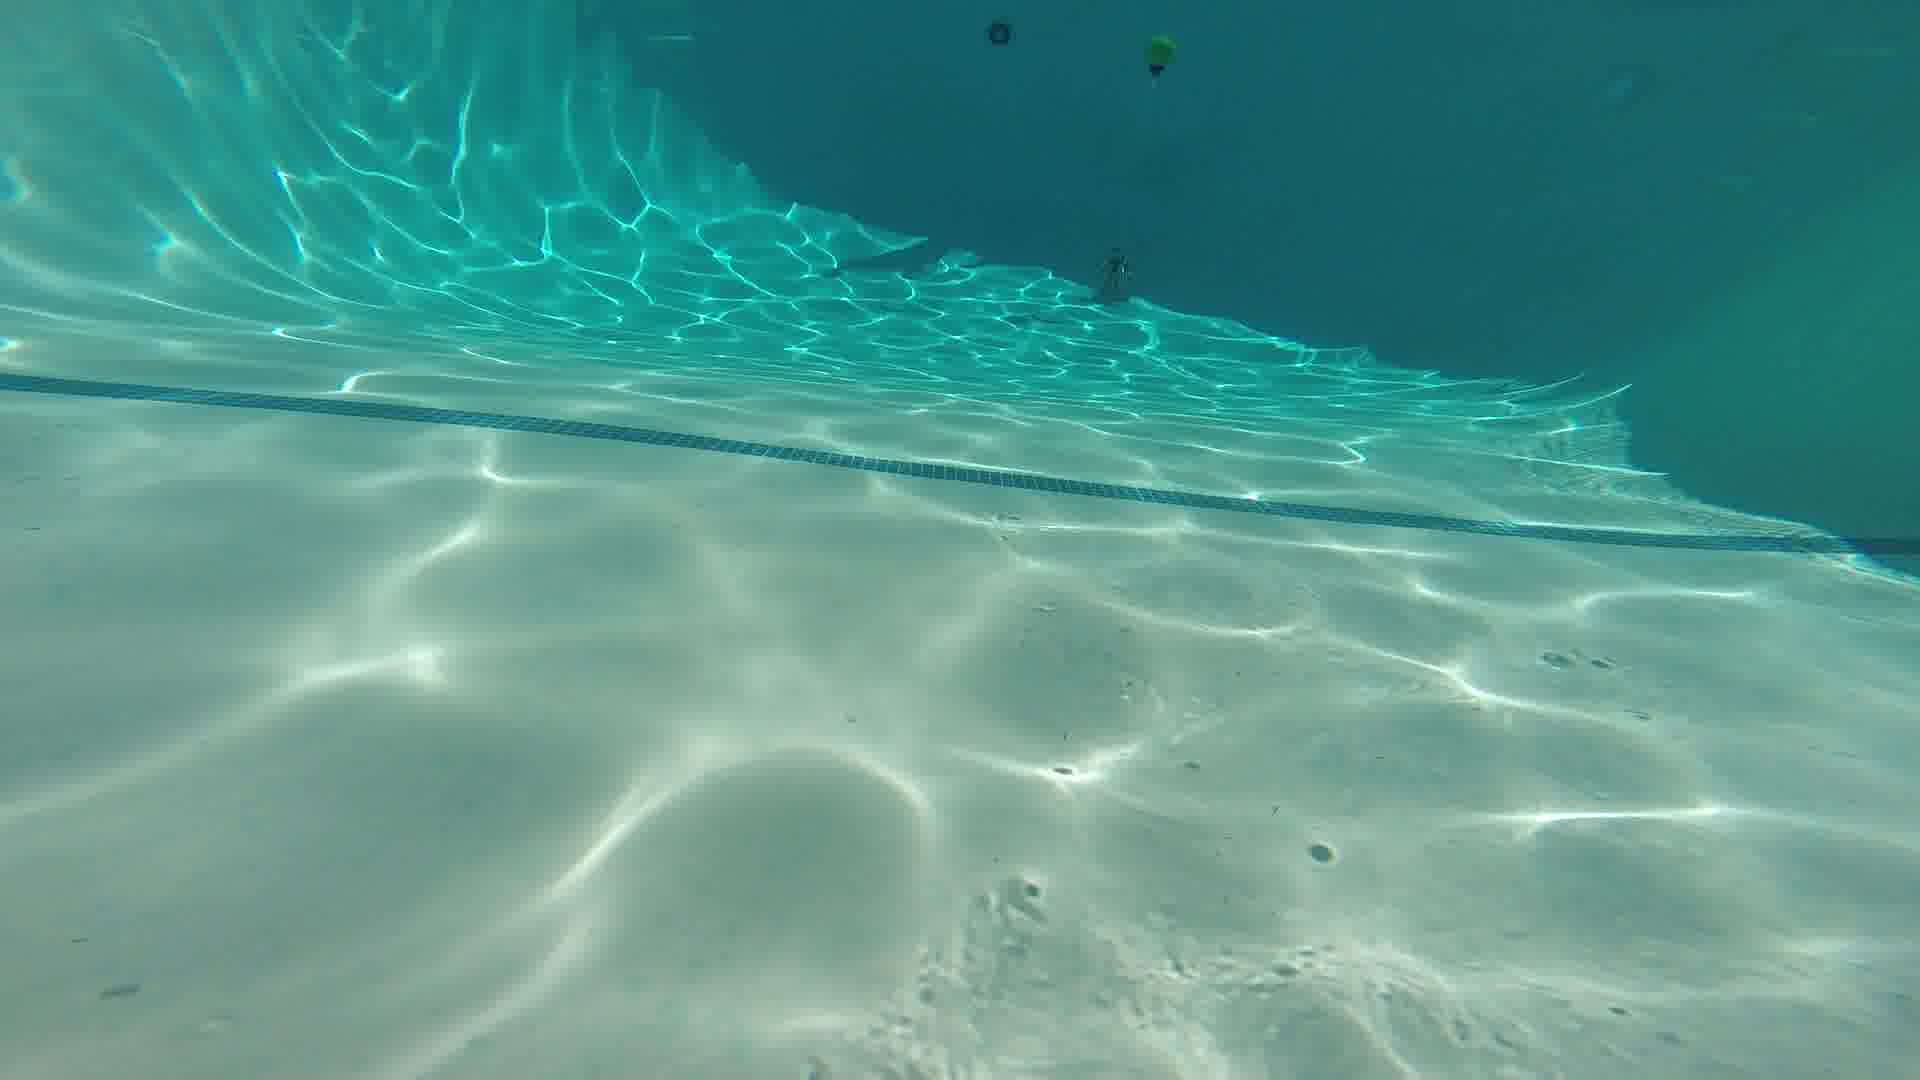yellow_buoy: (1139, 26, 1178, 84)
